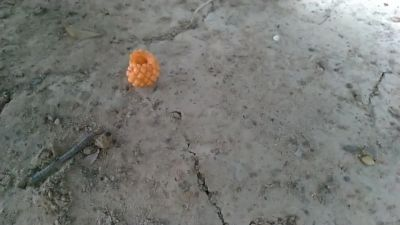eggs: (125, 48, 165, 92)
